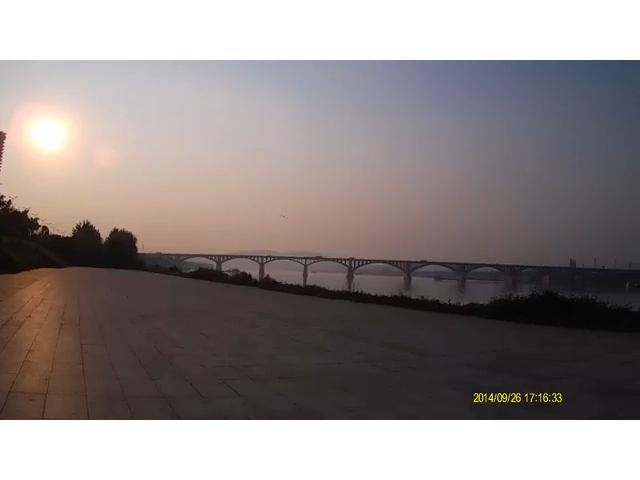Anti-Drone: (272, 208, 300, 224)
